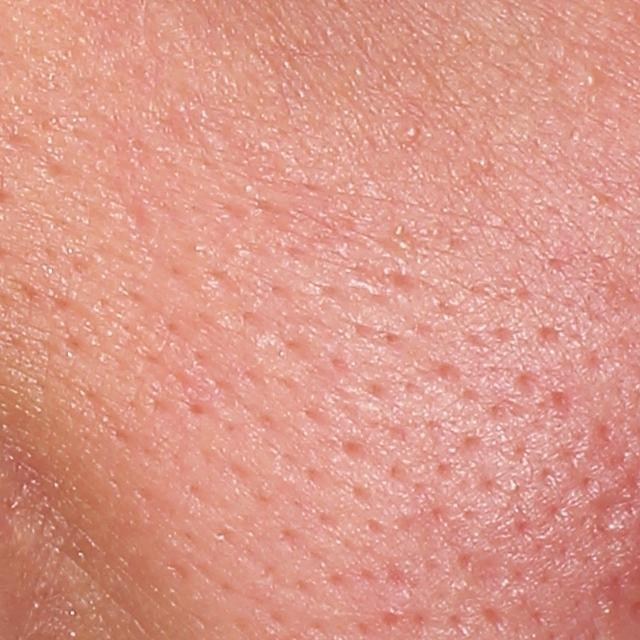comedo: (579, 67, 606, 90)
